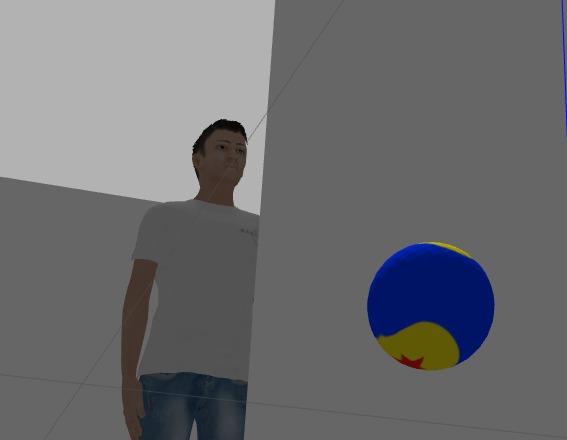toy story ball: (366, 241, 495, 371)
